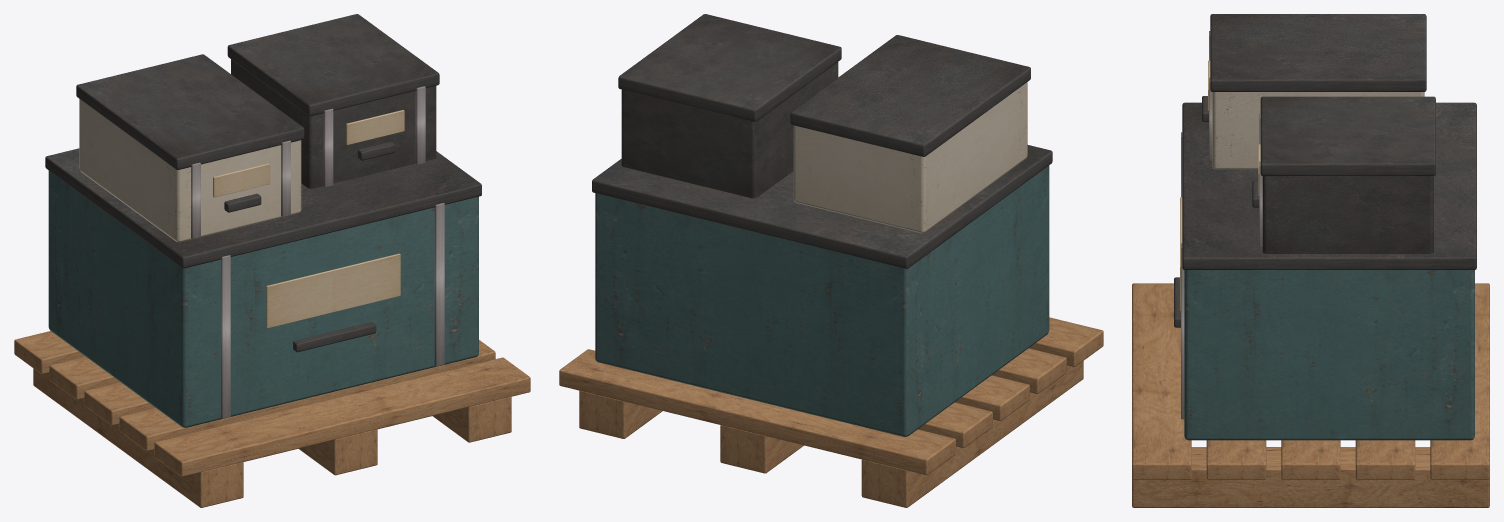
File: SM_FacilityRooms_PalletCrates.fbx
3 renders of one model, left to right at view 1: azimuth 30°, elevation 25°; view 2: azimuth 150°, elevation 25°; view 3: azimuth 270°, elevation 25°, orthographic. The views are drawn at different scales.
Visible parts, largest first — view 1: SM_FacilityRooms_PalletCrates; view 2: SM_FacilityRooms_PalletCrates; view 3: SM_FacilityRooms_PalletCrates.
Part boxes in pixels (x1,y1,x2,y2): SM_FacilityRooms_PalletCrates: [14, 14, 530, 507]; SM_FacilityRooms_PalletCrates: [559, 14, 1103, 507]; SM_FacilityRooms_PalletCrates: [1132, 14, 1489, 507].
Size of what is drawn, in the model's own units: 120 by 100 by 105.
